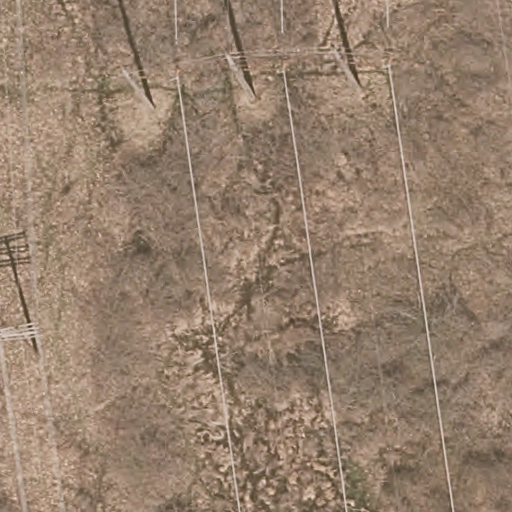DT: (1, 321, 43, 365)
TT: (100, 43, 398, 109)
